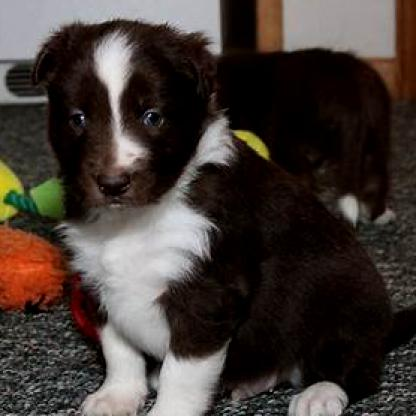dog: (28, 20, 395, 414)
